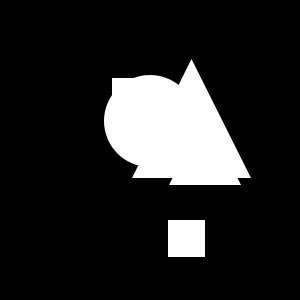circle: (168, 220, 205, 257), (112, 78, 139, 105)
rectangle: (104, 75, 196, 167)
triangle: (132, 59, 251, 178), (169, 113, 241, 185)
